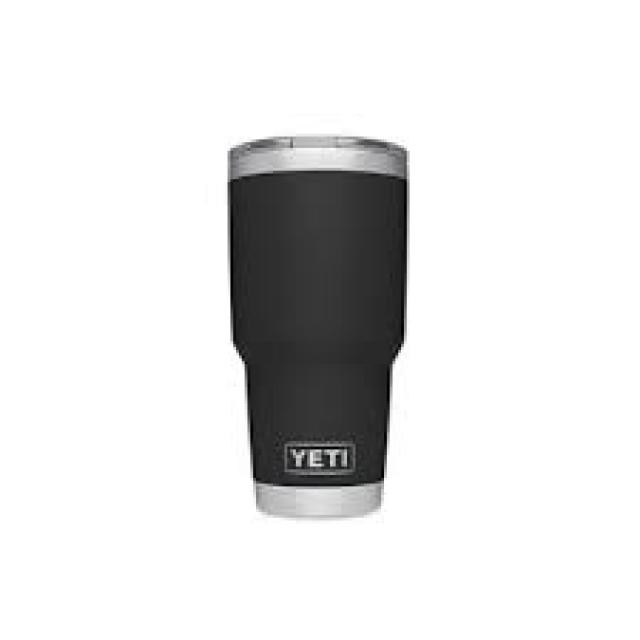bottle: (222, 130, 412, 527)
